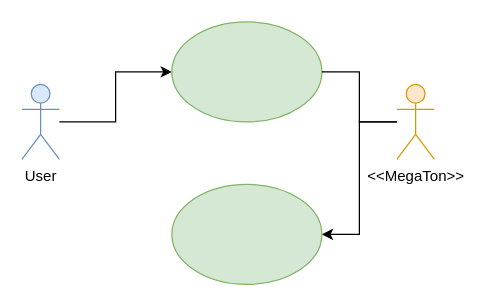
The diagram is 485 pixels wide and 306 high, and some of its shapes have lost their labels. Each missing label, with the box of its shape:
Create New Wallet: (171, 21, 322, 122)
Display Wallet In Wallet List Page: (171, 183, 322, 284)
